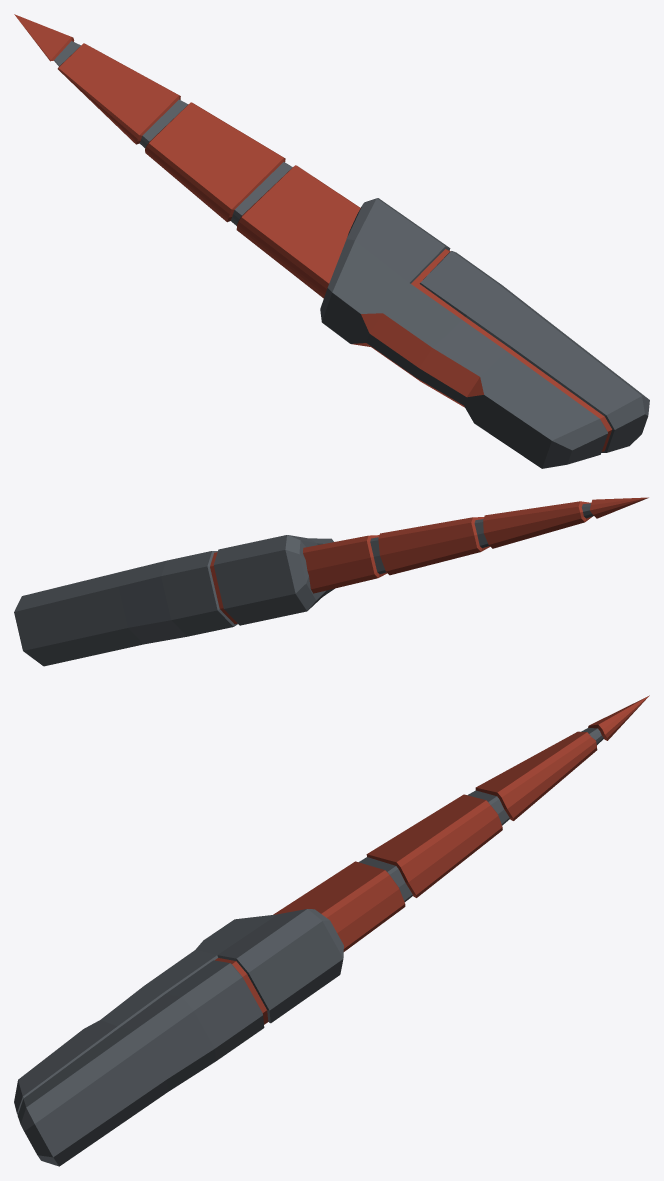
File: Fighter_03_Right_Wing_Red.fbx
3 views of the same model, one above another, from view 1: azimuth 30°, elevation 25°; view 2: azimuth 210°, elevation 25°; view 3: azimuth 270°, elevation 25° (orthographic). The views are drawn at different scales.
Parts seen in each view (by area): view 1: Fighter_03_Right_Wing_Red; view 2: Fighter_03_Right_Wing_Red; view 3: Fighter_03_Right_Wing_Red.
Boxes of the visible parts, x1,y1,x2,y2 form: Fighter_03_Right_Wing_Red: (14,14,649,468); Fighter_03_Right_Wing_Red: (14,497,648,666); Fighter_03_Right_Wing_Red: (14,695,649,1166).
Bounding box in the file's own units: 590 × 501 × 932.
1 material, 1 textured.
